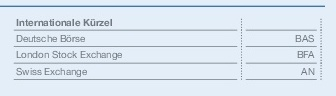table: (0, 0, 336, 96)
